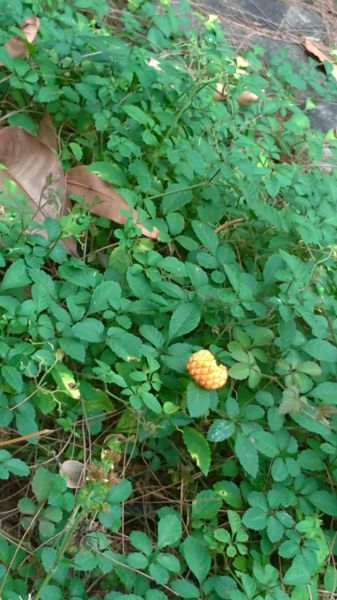eggs: (182, 346, 233, 395)
